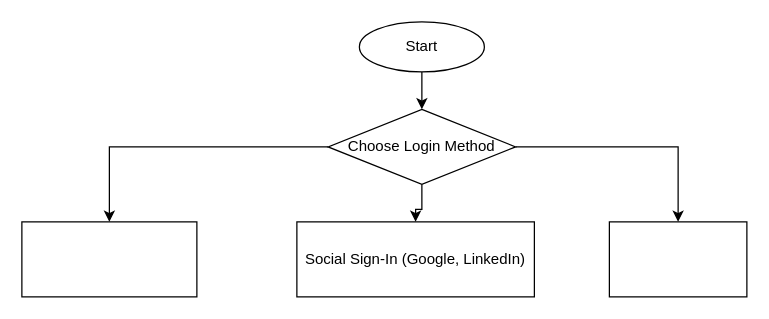
This 769x319 diagram has some shape labels left out. The shapes that lost their labels are listed below. From the top down, each one's centre as x and y in pixels, then its label:
At pixel 109 259: "Email/Password".
At pixel 677 259: "SSO".
